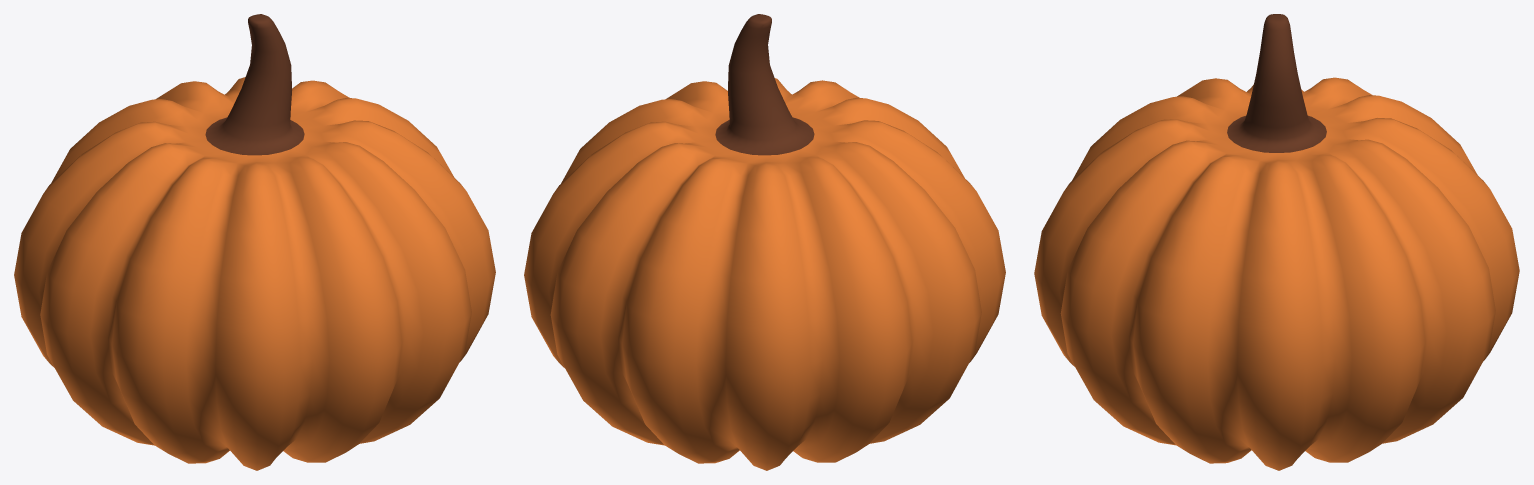
File: cabalaza.fbx
3 renders of one model, left to right at view 1: azimuth 30°, elevation 25°; view 2: azimuth 150°, elevation 25°; view 3: azimuth 270°, elevation 25°, orthographic.
Visible parts, largest first — view 1: cabalaza; view 2: cabalaza; view 3: cabalaza.
Boxes of the visible parts, x1=… form: cabalaza: x1=14, y1=14, x2=495, y2=470; cabalaza: x1=524, y1=14, x2=1005, y2=470; cabalaza: x1=1034, y1=14, x2=1519, y2=470.
Bounding box in the file's own units: 236 × 223 × 236.
